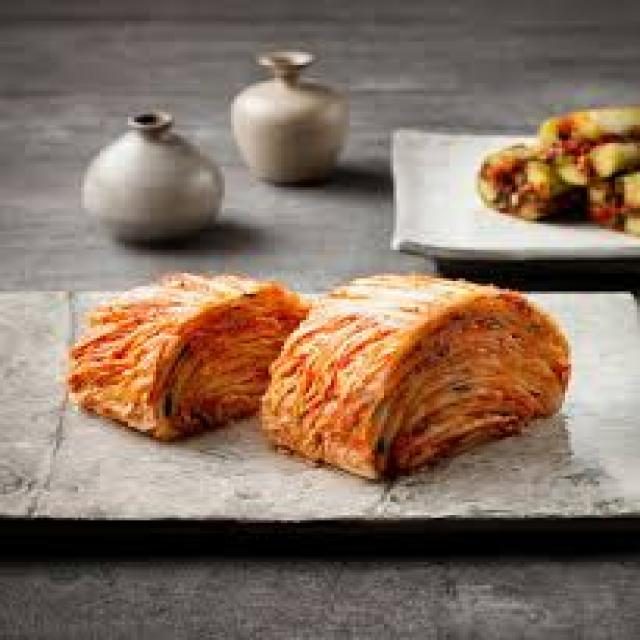kimchi: (250, 252, 574, 512)
